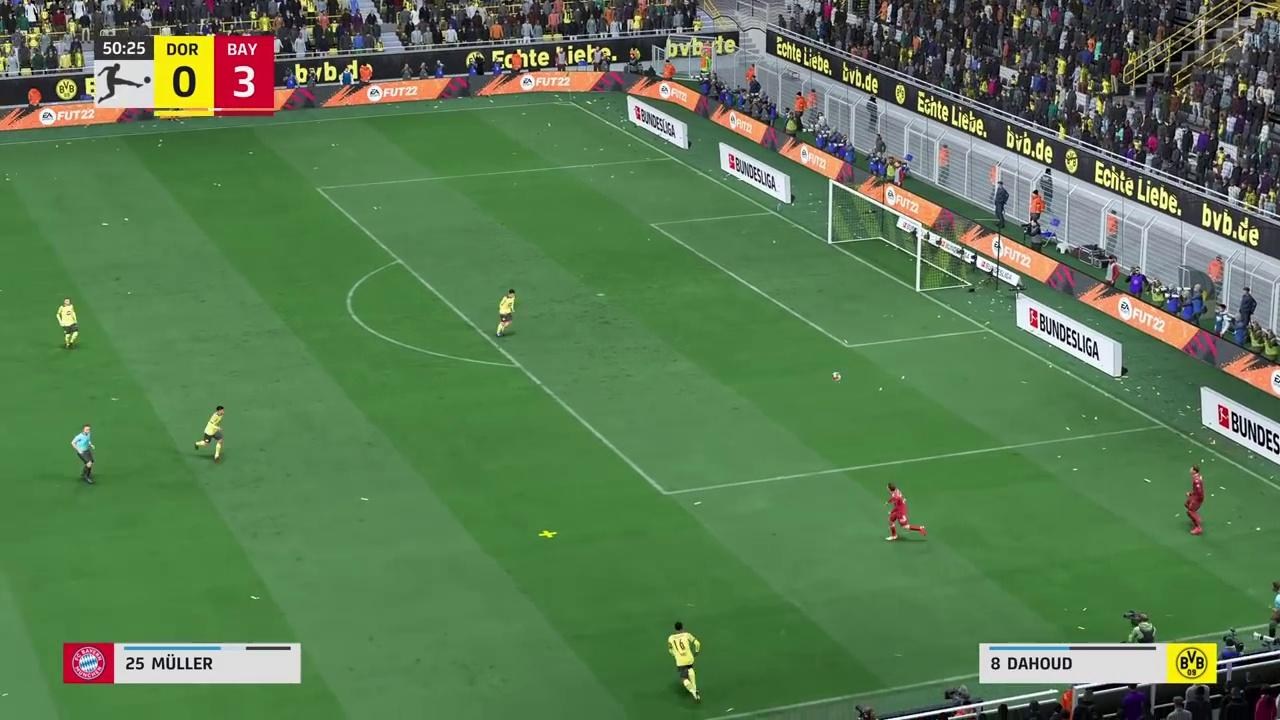scoreboard: (159, 34, 272, 113)
timestamp: (94, 36, 156, 58)
